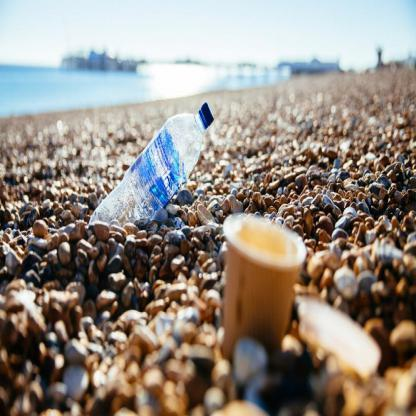Plastic: (86, 99, 216, 233), (218, 210, 312, 346)
